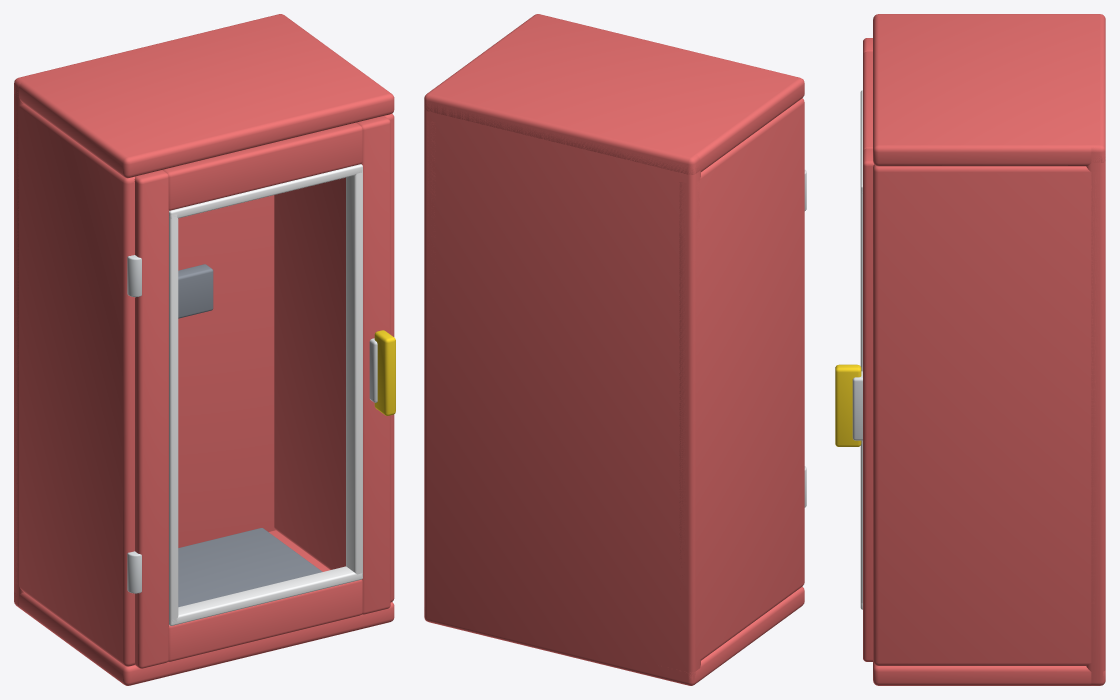
The model's file is SM_FireCabinet.fbx.
3 views of the same model, side by side, from view 1: azimuth 30°, elevation 25°; view 2: azimuth 150°, elevation 25°; view 3: azimuth 270°, elevation 25° (orthographic). The views are drawn at different scales.
Parts seen in each view (by area): view 1: CabinetBody, CabinetDoor_Hinge; view 2: CabinetBody; view 3: CabinetBody, CabinetDoor_Hinge.
Part boxes in pixels (x1,y1,x2,y2): CabinetBody: [14, 14, 394, 685]; CabinetDoor_Hinge: [127, 116, 395, 668]; CabinetBody: [424, 14, 804, 685]; CabinetBody: [873, 14, 1105, 685]; CabinetDoor_Hinge: [835, 38, 874, 661].
Size of the model in its own units: 44 by 82 by 37.2.
